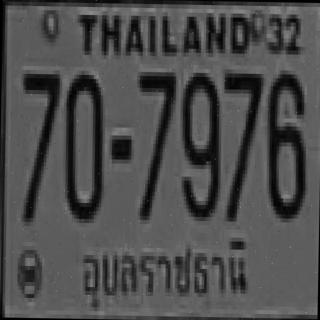N00: (62, 70, 104, 219)
N06: (263, 72, 305, 216)
N07: (220, 69, 261, 218), (18, 70, 57, 218), (135, 70, 174, 218), (19, 70, 57, 174)
N09: (178, 68, 220, 217)
P72: (75, 232, 255, 314)
